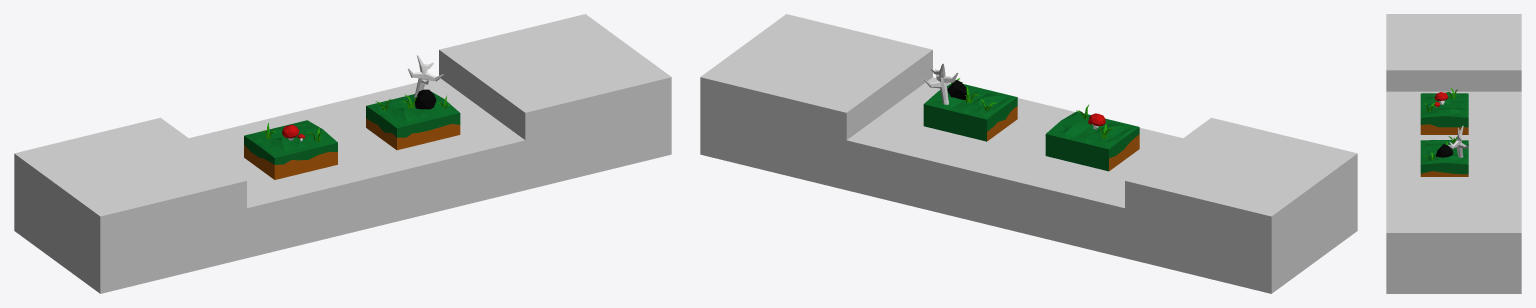
File: Normal_Obstacle_Forest_8.fbx
The picture shows the model from 3 angles, left to right: view 1: azimuth 30°, elevation 25°; view 2: azimuth 150°, elevation 25°; view 3: azimuth 270°, elevation 25°; orthographic projection. The views are drawn at different scales.
Parts seen in each view (by area): view 1: Cube, Icosphere.004, Snow Long Snow Tree.002; view 2: Cube, Icosphere.004, Snow Long Snow Tree.002; view 3: Cube, Icosphere.004, Snow Long Snow Tree.002.
Boxes of the visible parts, bbox=[...] form: Cube: bbox=[14, 14, 671, 293]; Icosphere.004: bbox=[244, 89, 460, 179]; Snow Long Snow Tree.002: bbox=[408, 55, 443, 97]; Cube: bbox=[700, 14, 1357, 293]; Icosphere.004: bbox=[923, 78, 1139, 171]; Snow Long Snow Tree.002: bbox=[924, 63, 958, 104]; Cube: bbox=[1386, 14, 1521, 293]; Icosphere.004: bbox=[1420, 87, 1468, 176]; Snow Long Snow Tree.002: bbox=[1448, 126, 1469, 157].
Bounding box in the file's own units: 10231 × 1942 × 2676.
